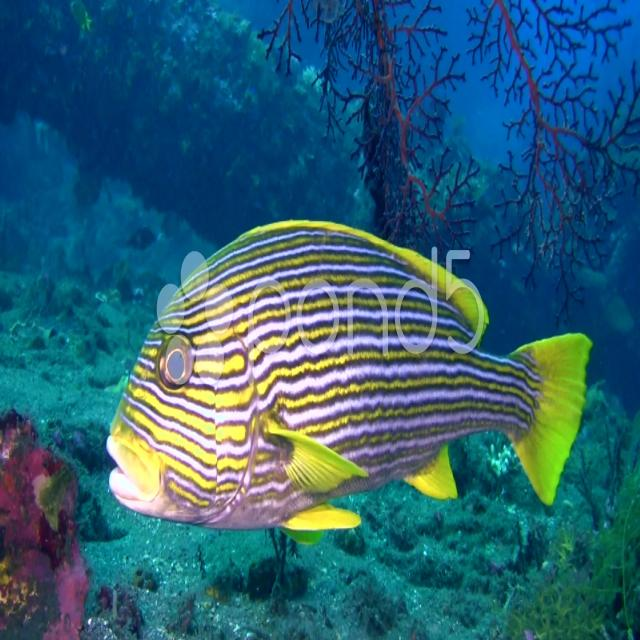RibbonedSweetlips: (105, 217, 594, 543)
